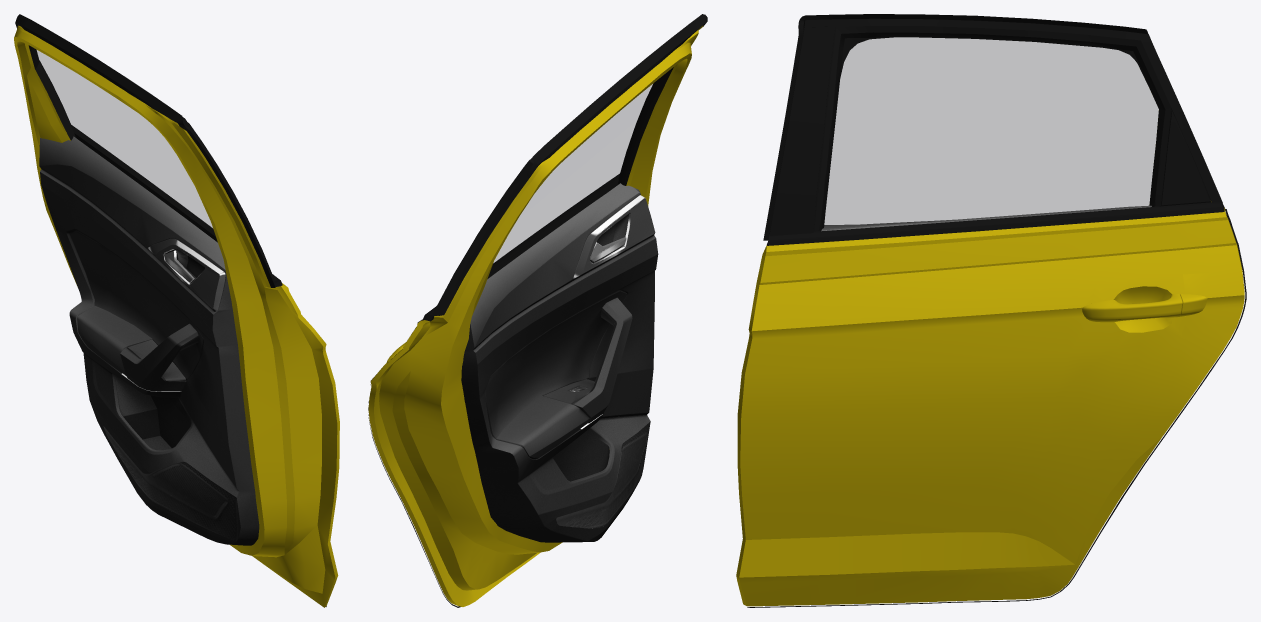
File: door_lr.glb
3 renders of one model, left to right at view 1: azimuth 30°, elevation 25°; view 2: azimuth 150°, elevation 25°; view 3: azimuth 270°, elevation 25°, orthographic. The views are drawn at different scales.
Visible parts, largest first — view 1: 42_lr_door_inner_map_c_inner_door_2_0, 03_car_body_lr_door_carpaint_C1_0, 39_lr_door_glass_Default OBJ.012_0, 40_lr_door_plastic_plastic_0, 41_lr_door_black_plastic_plastic_0; view 2: 42_lr_door_inner_map_c_inner_door_2_0, 03_car_body_lr_door_carpaint_C1_0, 40_lr_door_plastic_plastic_0, 39_lr_door_glass_Default OBJ.012_0; view 3: 03_car_body_lr_door_carpaint_C1_0, 39_lr_door_glass_Default OBJ.012_0, 40_lr_door_plastic_plastic_0, 41_lr_door_black_plastic_plastic_0, 85_lr_door_plastic_line_plastic_0, 42_lr_door_inner_map_c_inner_door_2_0.
Part boxes in pixels (x1=…): 42_lr_door_inner_map_c_inner_door_2_0: x1=39, y1=136, x2=259, y2=545; 03_car_body_lr_door_carpaint_C1_0: x1=14, y1=25, x2=339, y2=607; 39_lr_door_glass_Default OBJ.012_0: x1=37, y1=50, x2=214, y2=235; 40_lr_door_plastic_plastic_0: x1=15, y1=14, x2=282, y2=287; 41_lr_door_black_plastic_plastic_0: x1=40, y1=61, x2=274, y2=280; 42_lr_door_inner_map_c_inner_door_2_0: x1=461, y1=183, x2=658, y2=542; 03_car_body_lr_door_carpaint_C1_0: x1=368, y1=25, x2=703, y2=606; 40_lr_door_plastic_plastic_0: x1=423, y1=14, x2=707, y2=321; 39_lr_door_glass_Default OBJ.012_0: x1=490, y1=83, x2=654, y2=272; 03_car_body_lr_door_carpaint_C1_0: x1=736, y1=201, x2=1244, y2=606; 39_lr_door_glass_Default OBJ.012_0: x1=819, y1=33, x2=1164, y2=230; 40_lr_door_plastic_plastic_0: x1=763, y1=14, x2=1224, y2=245; 41_lr_door_black_plastic_plastic_0: x1=769, y1=26, x2=1210, y2=235; 85_lr_door_plastic_line_plastic_0: x1=747, y1=209, x2=1246, y2=607; 42_lr_door_inner_map_c_inner_door_2_0: x1=821, y1=205, x2=1151, y2=231.
Size of the model in its own units: 0.3212 by 1.08 by 0.9367.
Materials: 4 (1 with a texture image).
